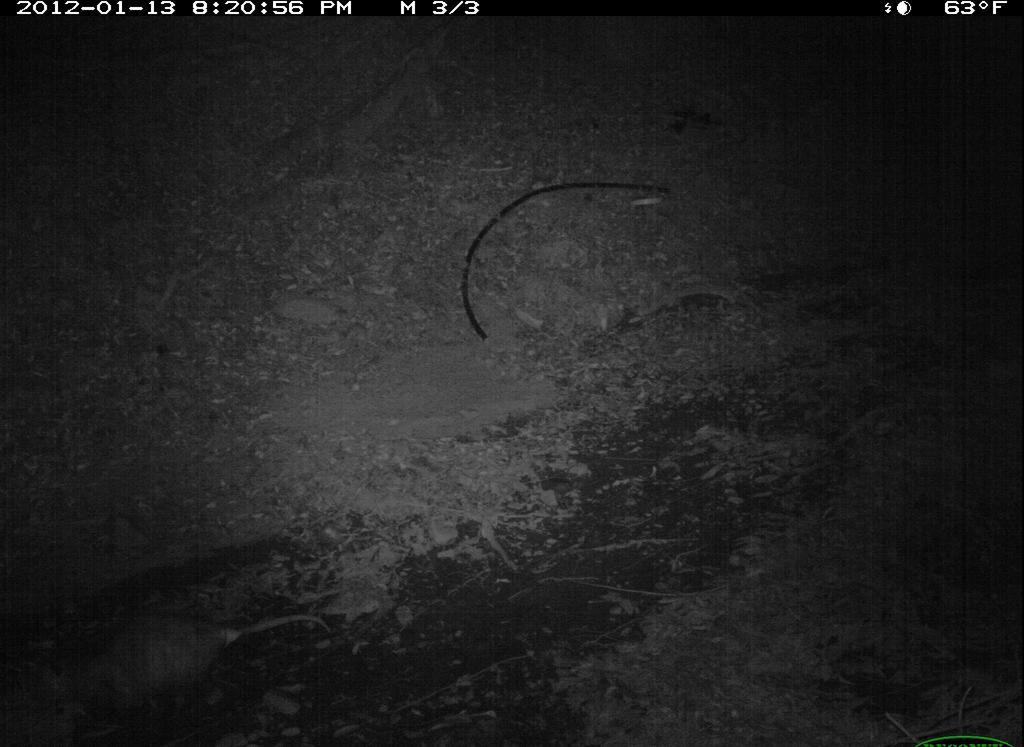opossum: (29, 593, 344, 724)
